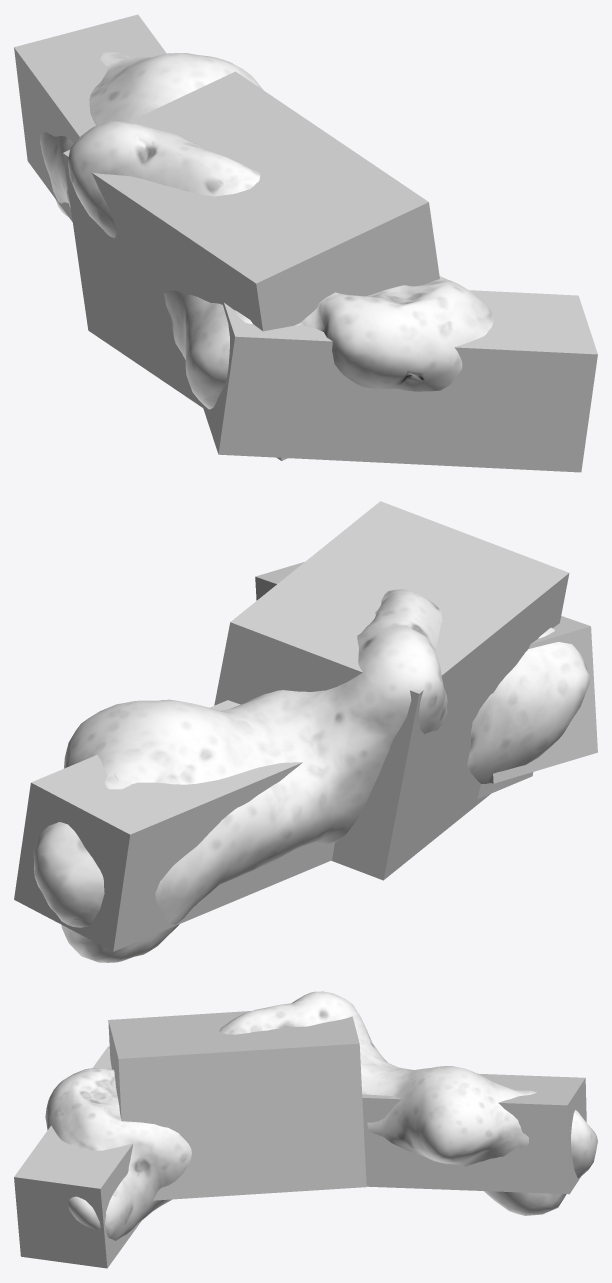
Rendered from Coral_6.glb.
The picture shows the model from 3 angles, top to bottom: view 1: azimuth 30°, elevation 25°; view 2: azimuth 150°, elevation 25°; view 3: azimuth 270°, elevation 25°; orthographic projection. The views are drawn at different scales.
Visible parts, largest first — view 1: Cube.016, Cube.017, A03612_Koralle6.001, Cube.015; view 2: A03612_Koralle6.001, Cube.016, Cube.015, Cube.017; view 3: Cube.016, A03612_Koralle6.001, Cube.015, Cube.017.
Part boxes in pixels (box(x1,y1,x2,y2)): Cube.016: box(63, 71, 439, 460); Cube.017: box(201, 290, 597, 472); A03612_Koralle6.001: box(40, 52, 493, 409); Cube.015: box(14, 14, 166, 221); A03612_Koralle6.001: box(33, 589, 589, 962); Cube.016: box(214, 501, 569, 880); Cube.015: box(14, 700, 533, 951); Cube.017: box(255, 562, 597, 783); Cube.016: box(108, 1011, 366, 1200); A03612_Koralle6.001: box(45, 991, 597, 1240); Cube.015: box(362, 1073, 586, 1194); Cube.017: box(14, 1046, 141, 1268).
Bounding box in the file's own units: 0.3103 × 0.2114 × 0.6274.
1 material, 1 textured.
